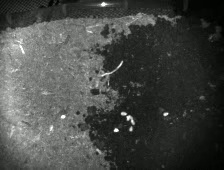corn: (46, 122, 56, 134), (58, 111, 68, 121), (160, 109, 170, 119), (117, 109, 129, 117), (127, 124, 136, 133), (112, 125, 121, 134), (124, 113, 132, 122), (127, 112, 136, 119), (131, 117, 137, 125)
